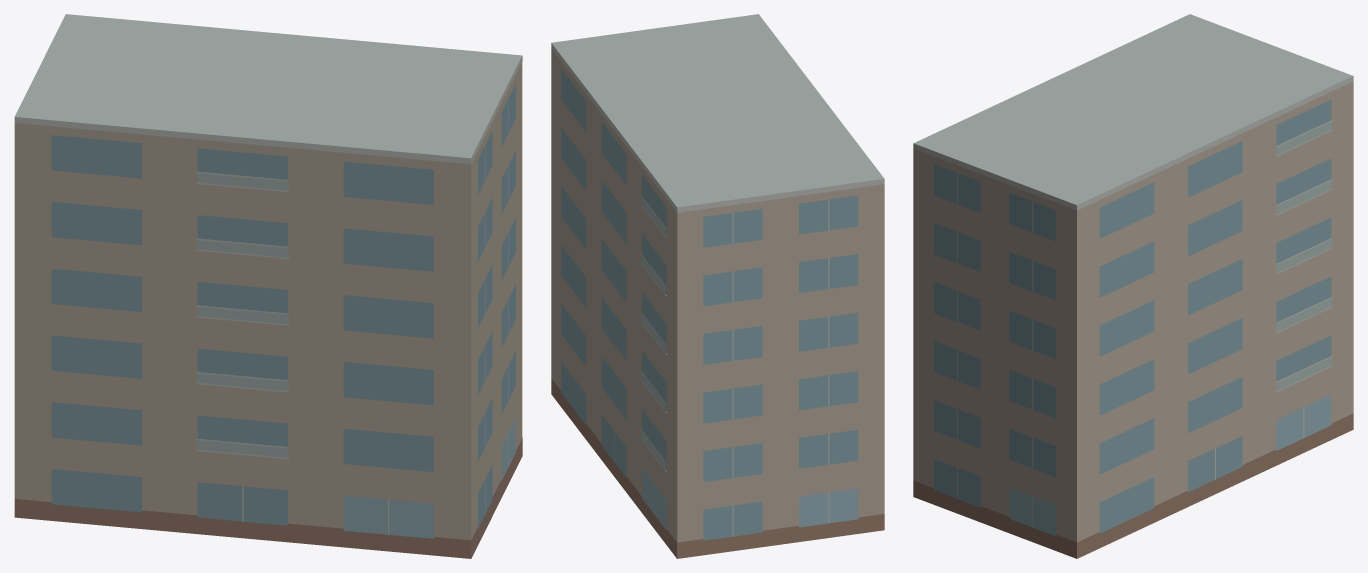
File: survey-upis-32609603.glb
3 renders of one model, left to right at view 1: azimuth 30°, elevation 25°; view 2: azimuth 150°, elevation 25°; view 3: azimuth 270°, elevation 25°, orthographic. The views are drawn at different scales.
Visible parts, largest first — view 1: survey-upis-32609603.tmp; view 2: survey-upis-32609603.tmp; view 3: survey-upis-32609603.tmp.
Part boxes in pixels (bbox=[...]): survey-upis-32609603.tmp: bbox=[14, 14, 522, 558]; survey-upis-32609603.tmp: bbox=[551, 14, 884, 558]; survey-upis-32609603.tmp: bbox=[913, 14, 1353, 558].
Size of the model in its own units: 18.68 by 16.1 by 18.16.
